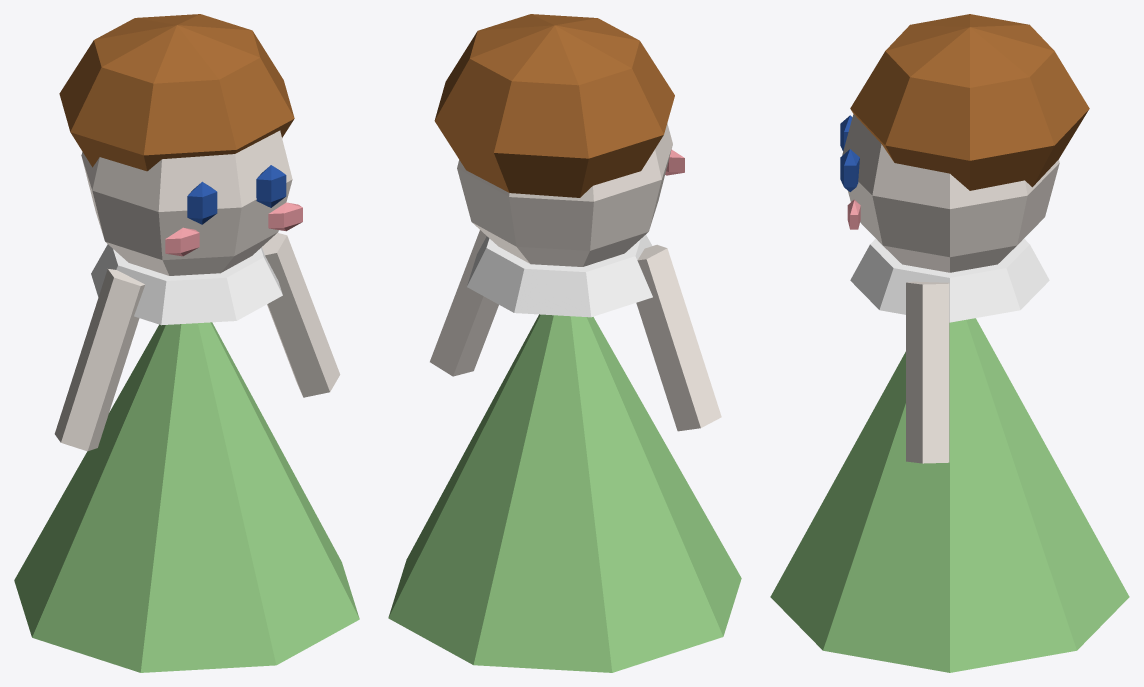
The model's file is porcelain_doll_3.glb.
3 views of the same model, side by side, from view 1: azimuth 30°, elevation 25°; view 2: azimuth 150°, elevation 25°; view 3: azimuth 270°, elevation 25° (orthographic). The views are drawn at different scales.
Visible parts, largest first — view 1: dress, hair_doll_curls, head_porcelain, arms_porcelain, collar_doll_lace, eyes_doll_eyes (×2), cheeks_doll_cheeks (×2); view 2: dress, hair_doll_curls, head_porcelain, arms_porcelain, collar_doll_lace; view 3: dress, hair_doll_curls, head_porcelain, collar_doll_lace, arms_porcelain, eyes_doll_eyes.
Part boxes in pixels (x1,y1,x2,y2): dress: (14, 322, 359, 672); hair_doll_curls: (59, 14, 294, 171); head_porcelain: (81, 130, 292, 275); arms_porcelain: (54, 233, 340, 451); collar_doll_lace: (91, 244, 282, 325); eyes_doll_eyes (×2): (187, 165, 286, 224); cheeks_doll_cheeks (×2): (165, 202, 302, 256); dress: (388, 314, 741, 672); hair_doll_curls: (434, 14, 674, 197); head_porcelain: (457, 123, 672, 266); arms_porcelain: (430, 230, 721, 431); collar_doll_lace: (467, 235, 652, 317); dress: (770, 318, 1129, 672); hair_doll_curls: (850, 14, 1089, 190); head_porcelain: (842, 114, 1059, 272); collar_doll_lace: (850, 238, 1049, 322); arms_porcelain: (906, 281, 949, 463); eyes_doll_eyes: (840, 149, 859, 191).
Size of the model in its own units: 0.18 by 0.315 by 0.18.
